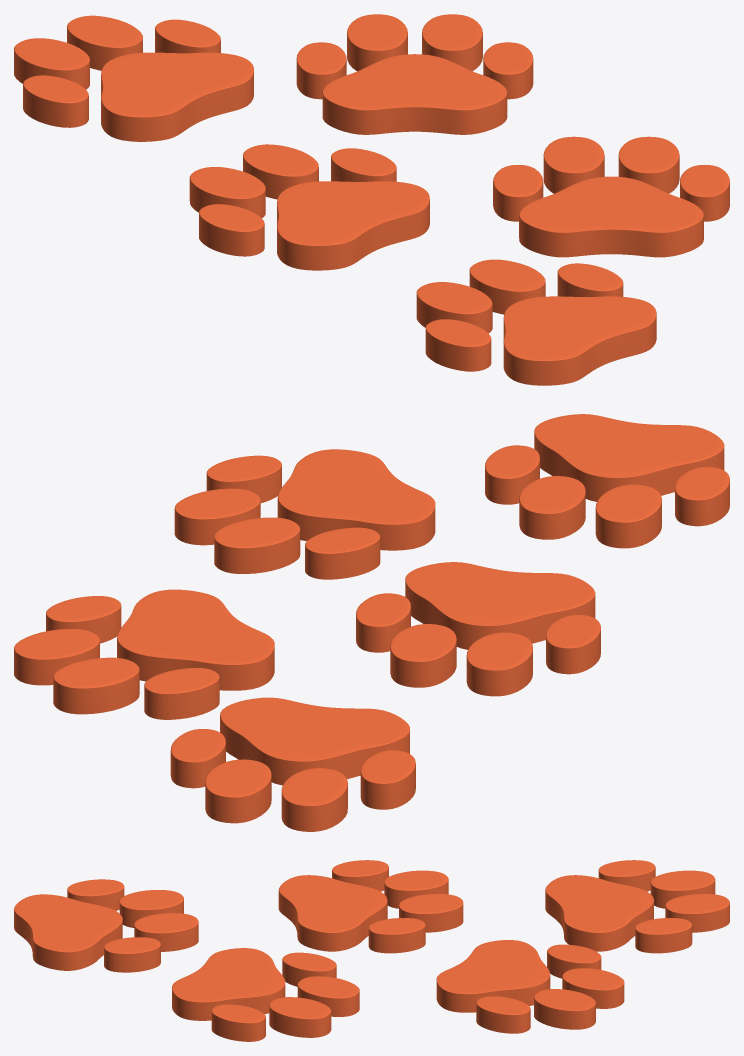
File: Store_11_Path_of_Paws_1.glb
3 renders of one model, top to bottom at view 1: azimuth 30°, elevation 25°; view 2: azimuth 150°, elevation 25°; view 3: azimuth 270°, elevation 25°, orthographic. The views are drawn at different scales.
Visible parts, largest first — view 1: Store_11_Path_of_Paws_1; view 2: Store_11_Path_of_Paws_1; view 3: Store_11_Path_of_Paws_1.
Part boxes in pixels (x1,y1,x2,y2): Store_11_Path_of_Paws_1: [14, 14, 729, 385]; Store_11_Path_of_Paws_1: [14, 414, 729, 831]; Store_11_Path_of_Paws_1: [14, 860, 729, 1041].
Size of the model in its own units: 2.09 by 0.113 by 3.89.
Materials: 1 (1 with a texture image).
